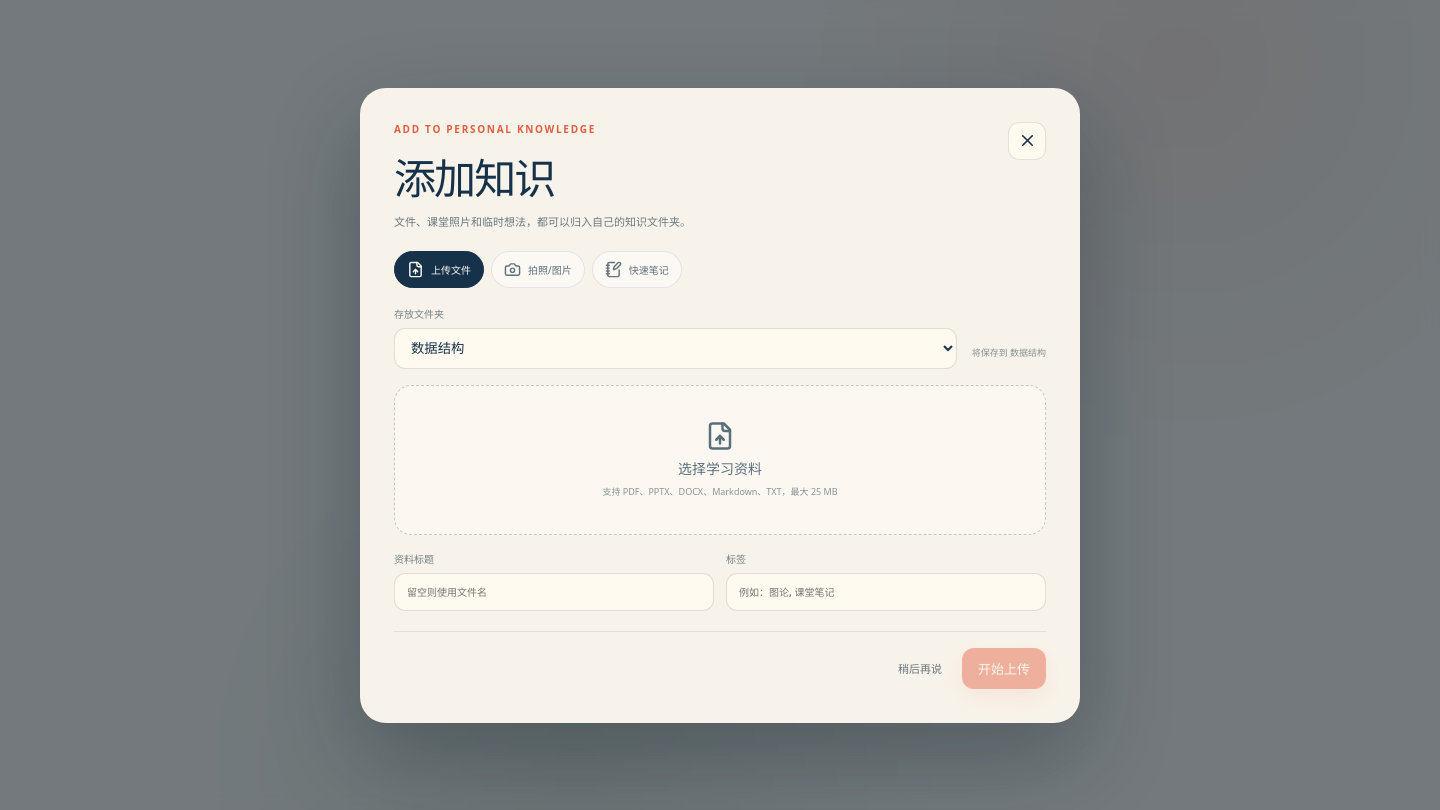
Test case: quick note reports a successful knowledge extraction
The width and height of the screenshot is (1440, 810).
Click the tab "快速笔记".
click(637, 269)  # box [592,250,682,288]
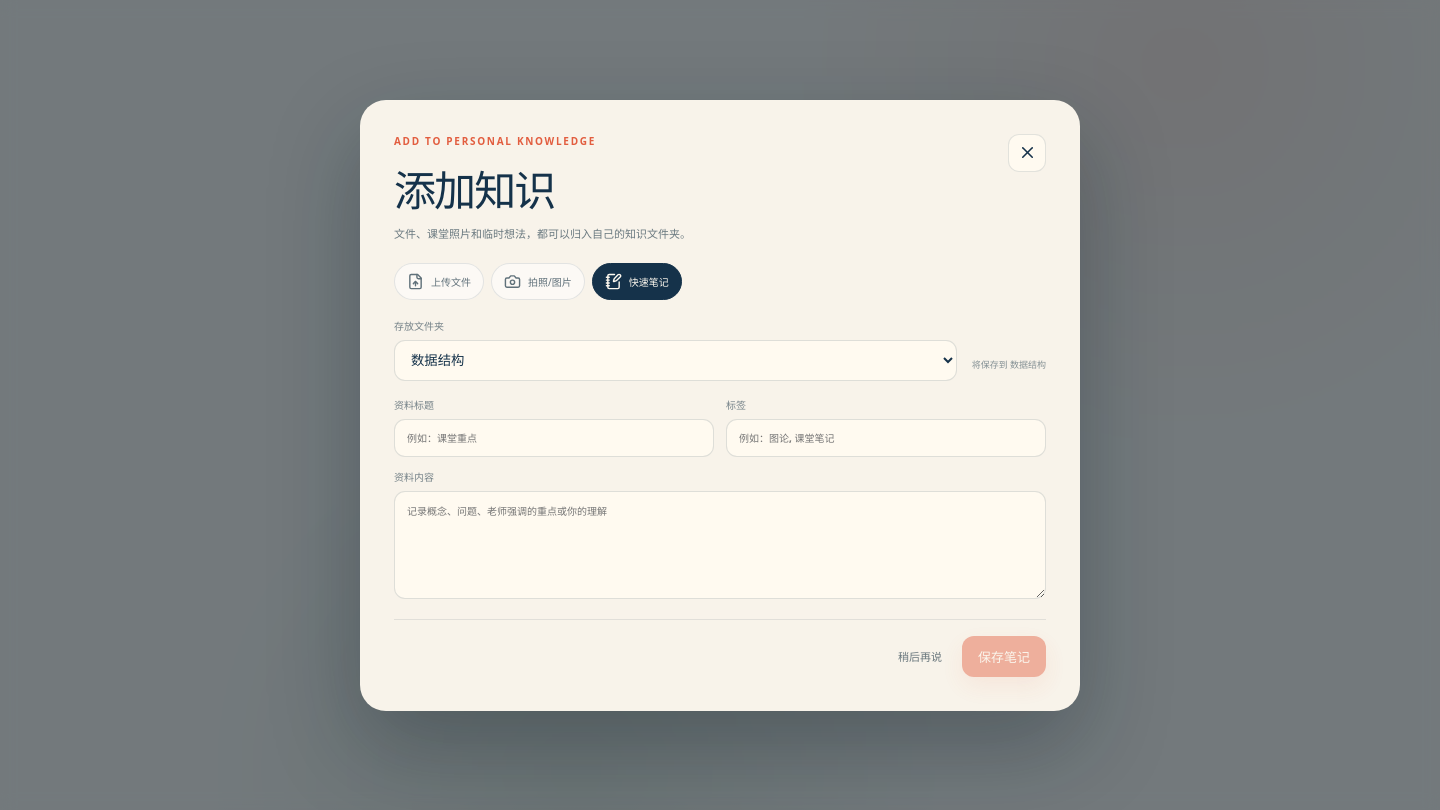
Type "BFS 课堂笔记" into the field labelled "资料标题".
click(554, 438); type("BFS 课堂笔记")  # box [394,418,714,456]
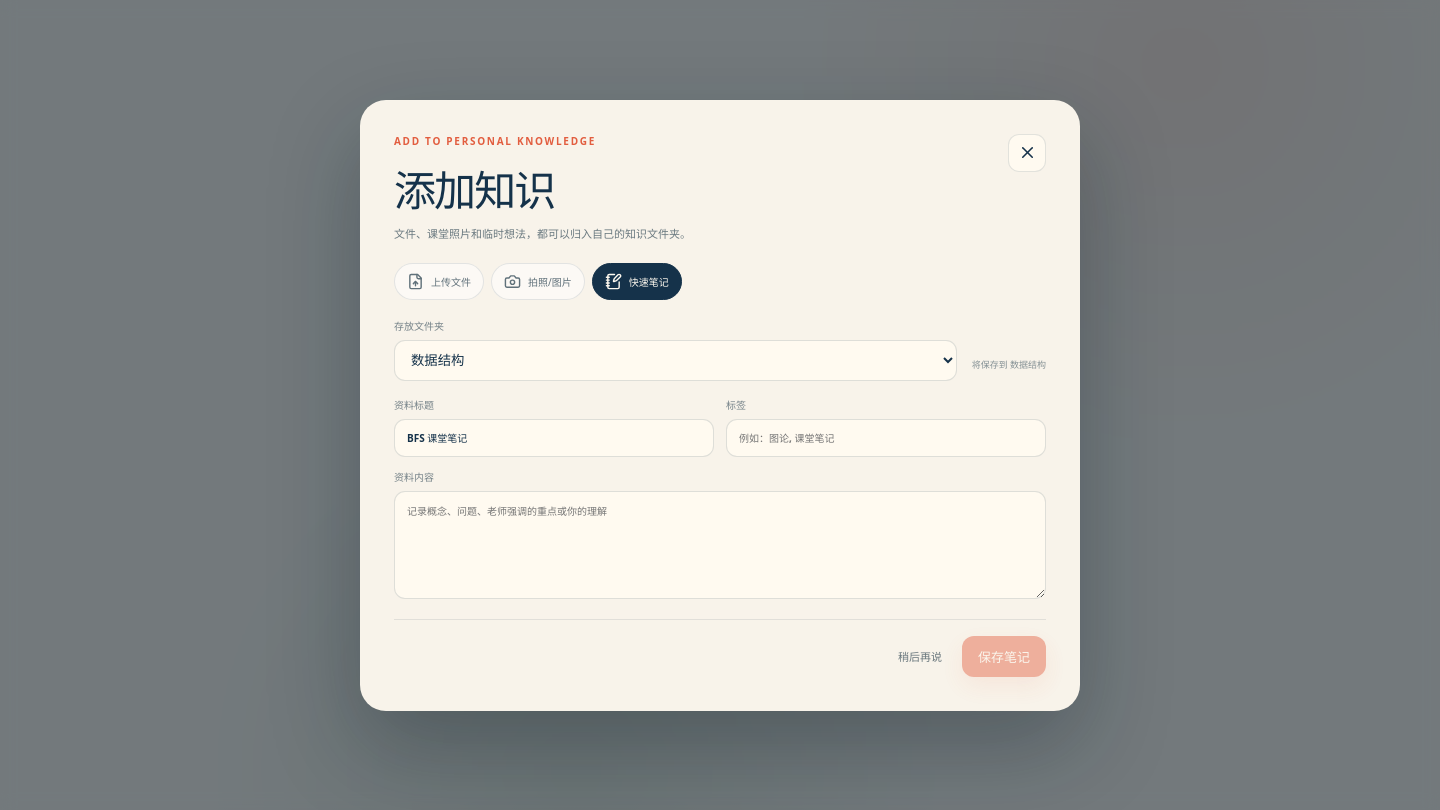
Type "广度优先搜索使用队列。" into the text box labelled "资料内容".
click(720, 544); type("广度优先搜索使用队列。")  # box [394,490,1046,598]
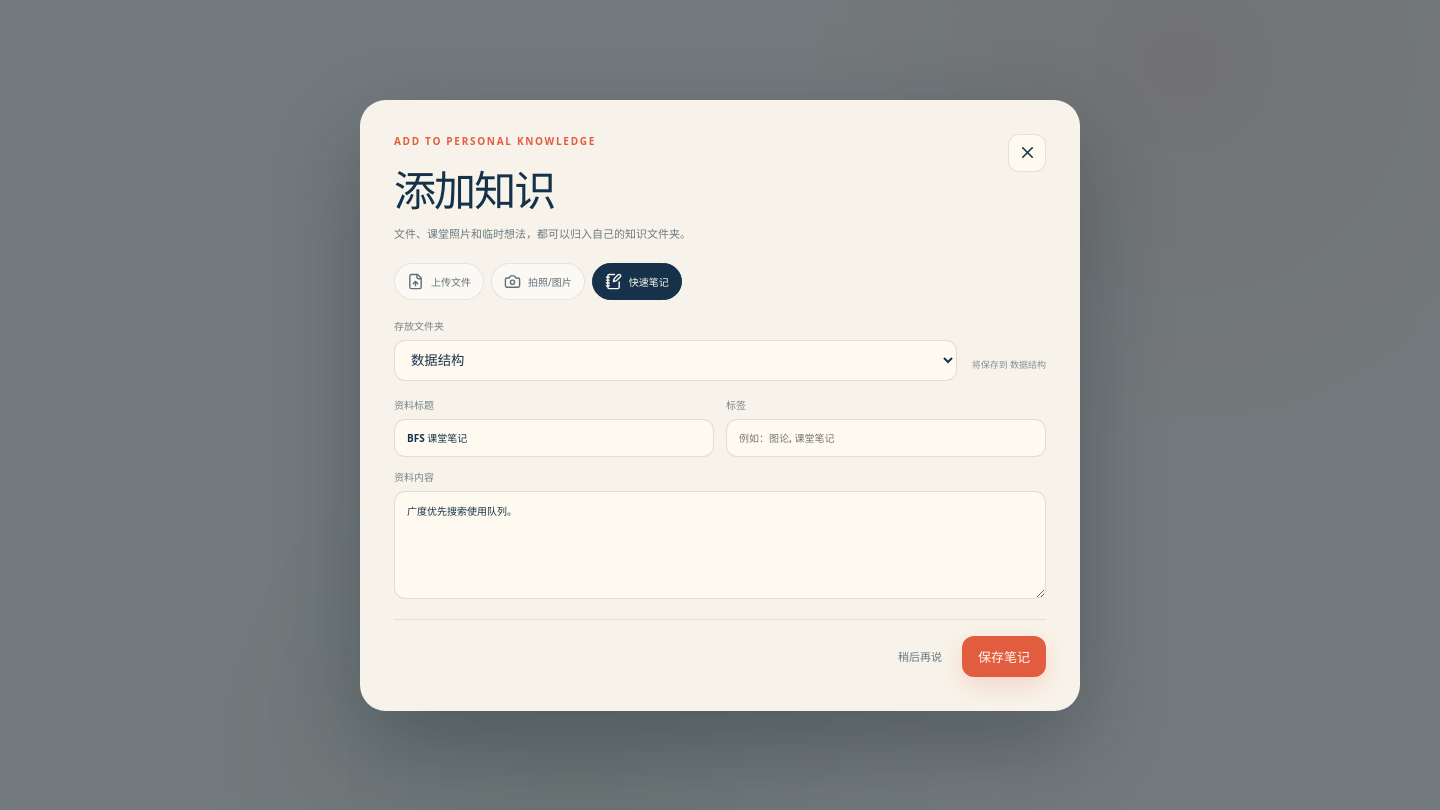
Click the button "保存笔记".
click(1004, 656)  # box [962,636,1046,676]
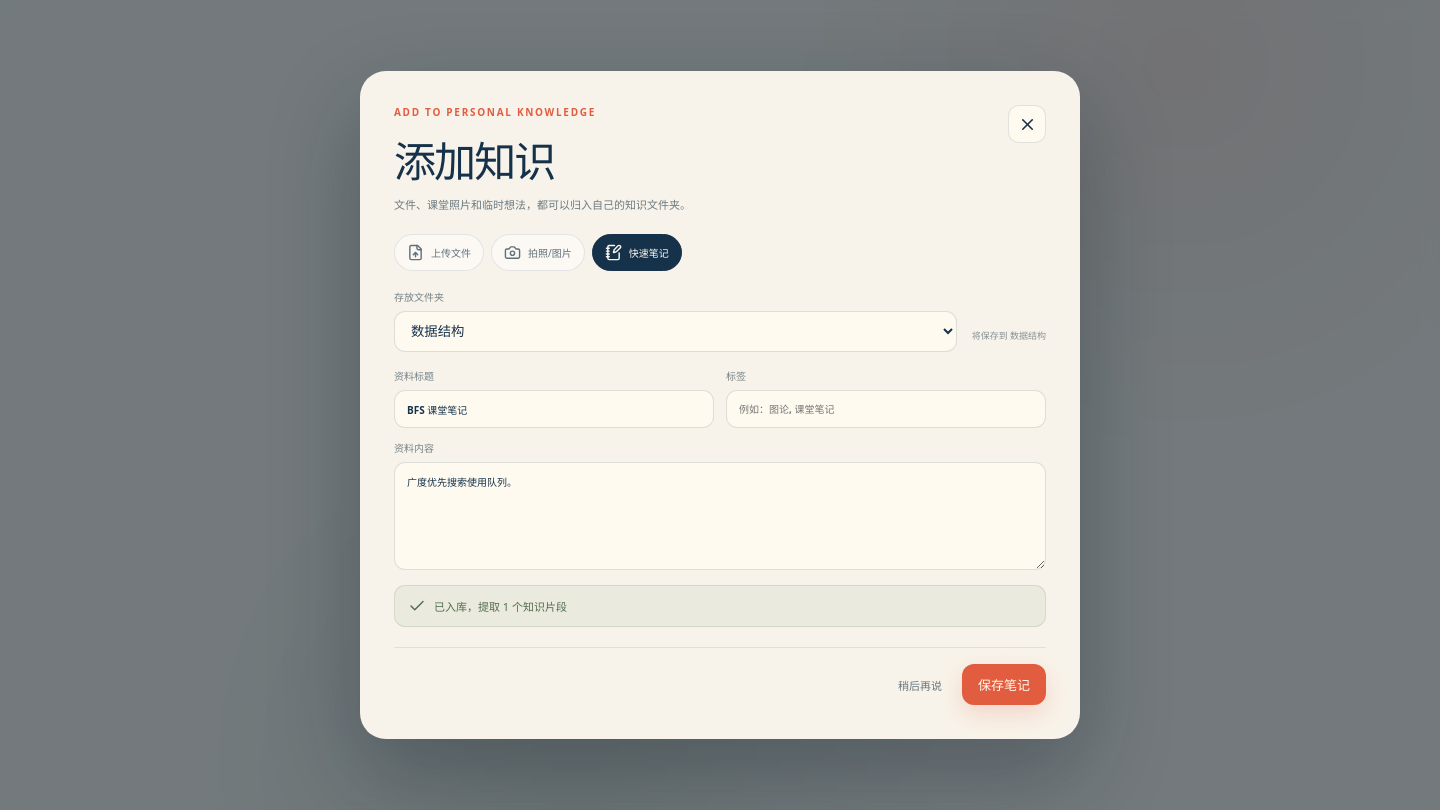
expect the message reads "已入库，提取 1 个知识片段": met, box [434,599,567,614]
